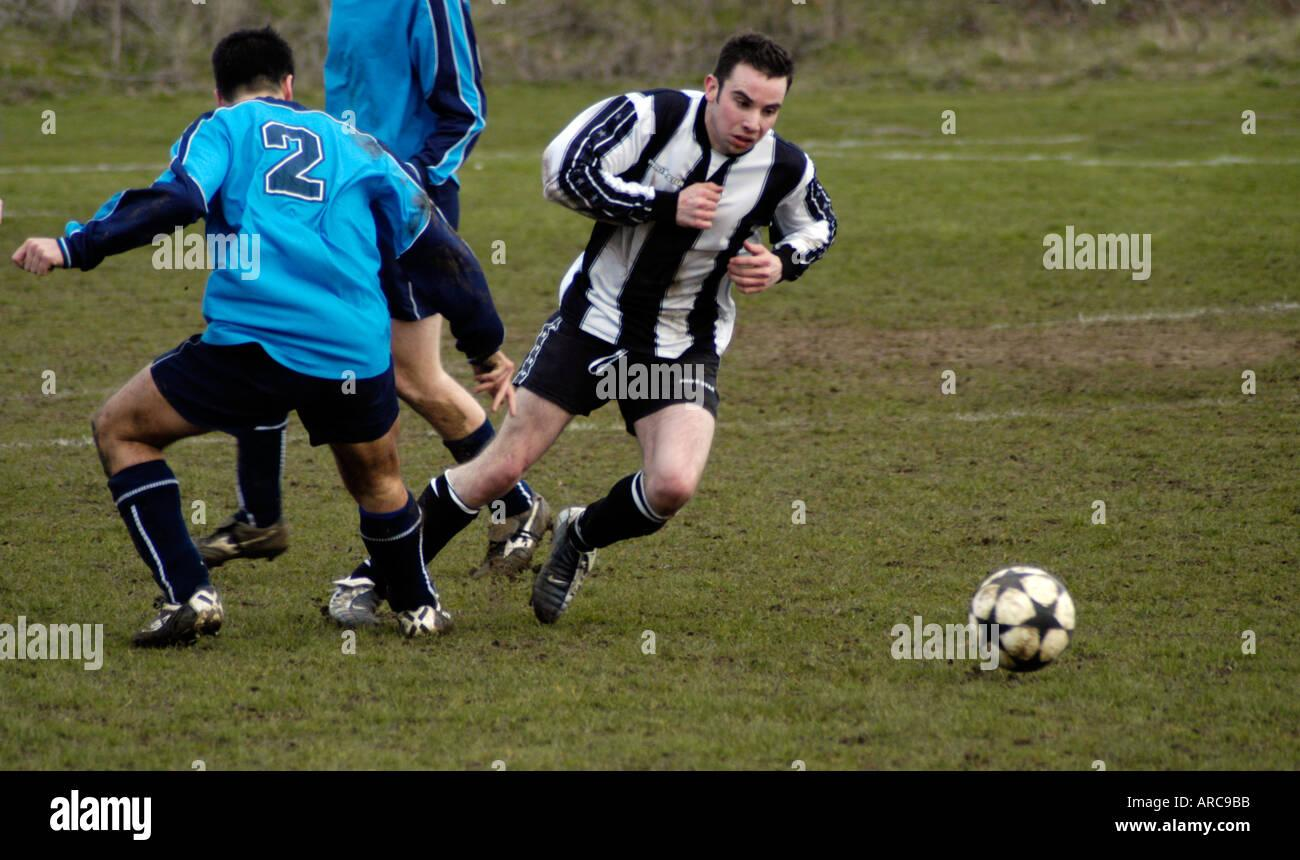ballon_football: (969, 566, 1078, 673)
